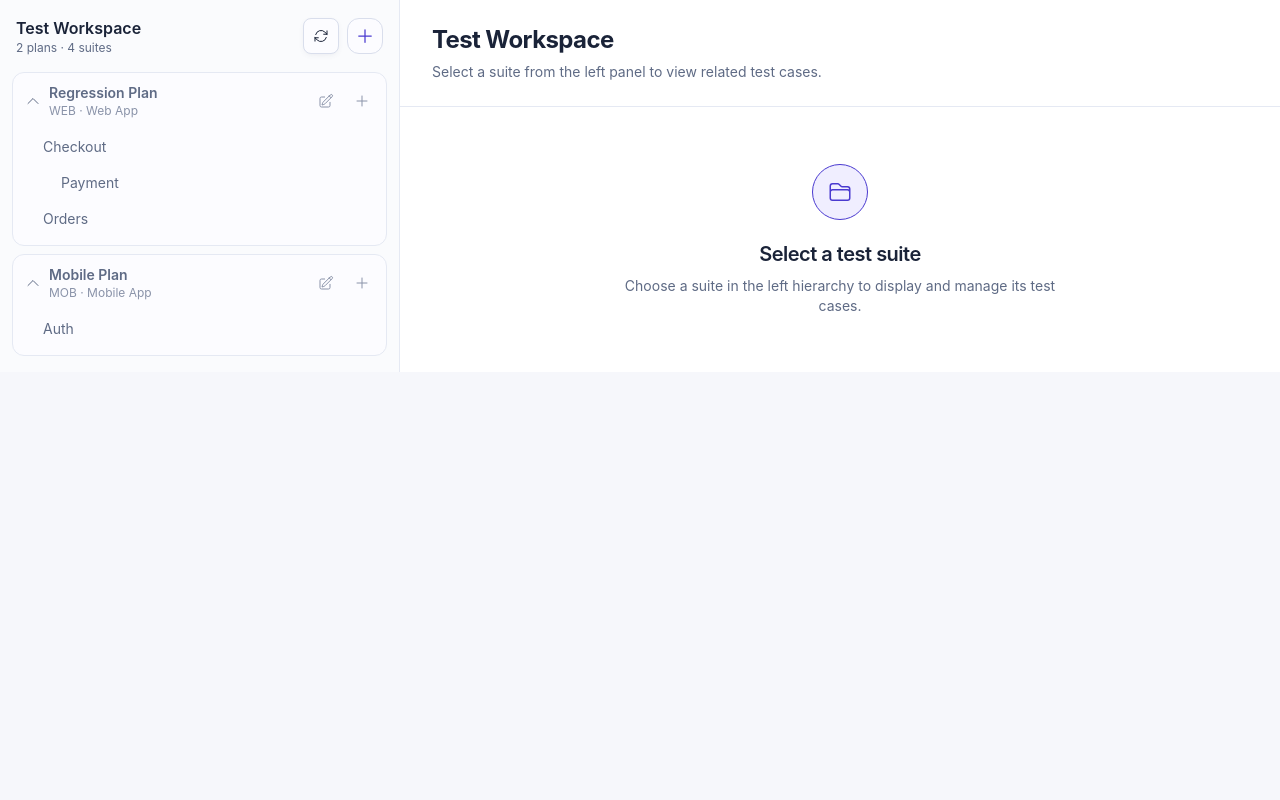
Test: TestManagementWorkspace › opens read-only test case detail when case title is clicked
Click the button "Payment" at (90, 182), box [13,165,386,201]
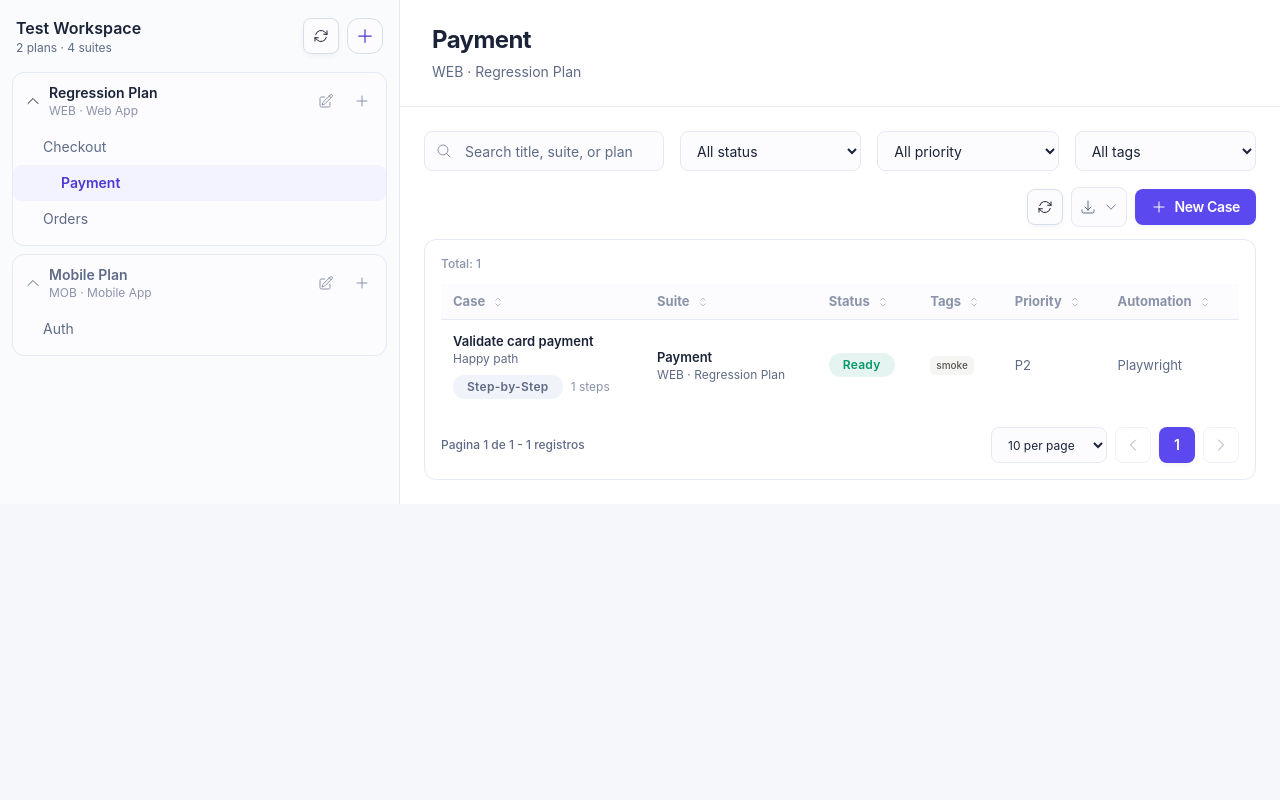
Now the button "Validate card payment" is shown
Click the button "Validate card payment" at (523, 341), box [453,332,594,351]
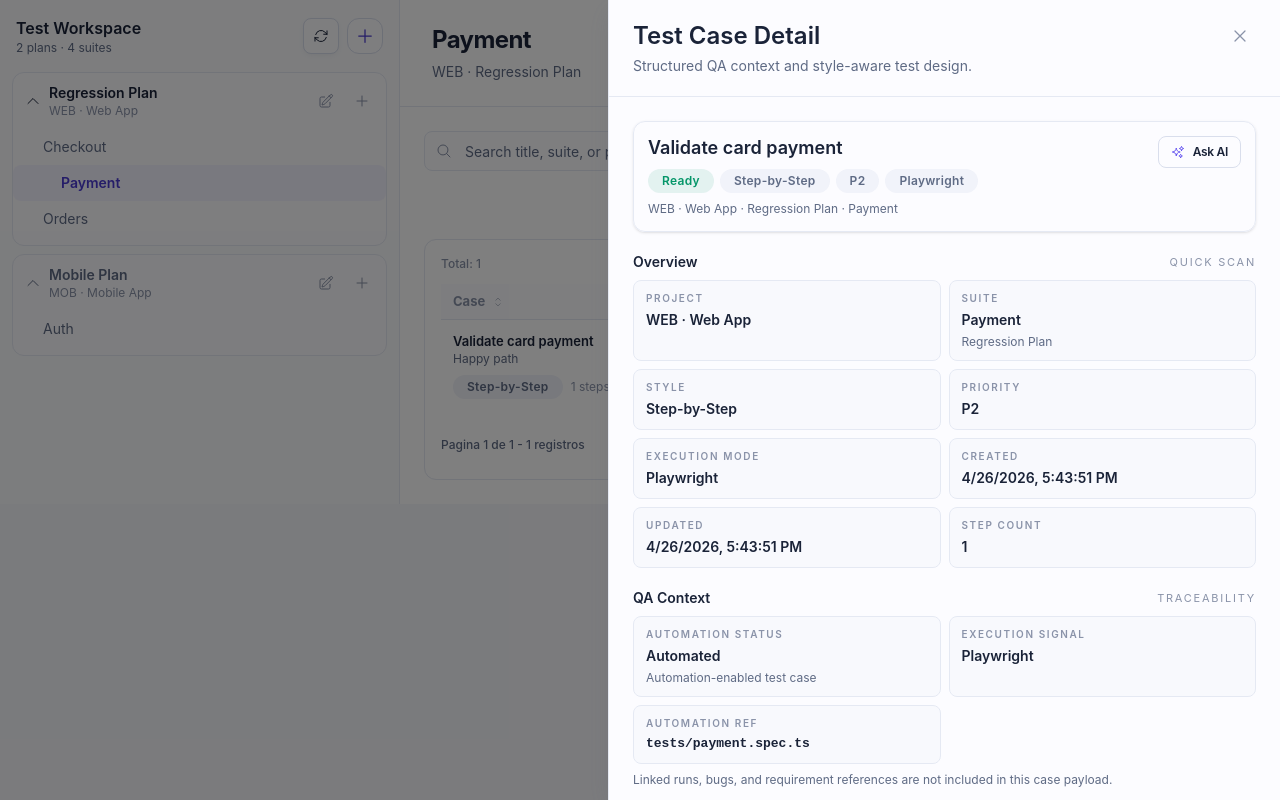
Now the text "Automation Ref" is shown, box [646,717,758,729]
Now the text "tests/payment.spec.ts" is shown, box [646,736,810,751]
Click the button named "Close" at (1240, 36), box [1224,20,1256,52]
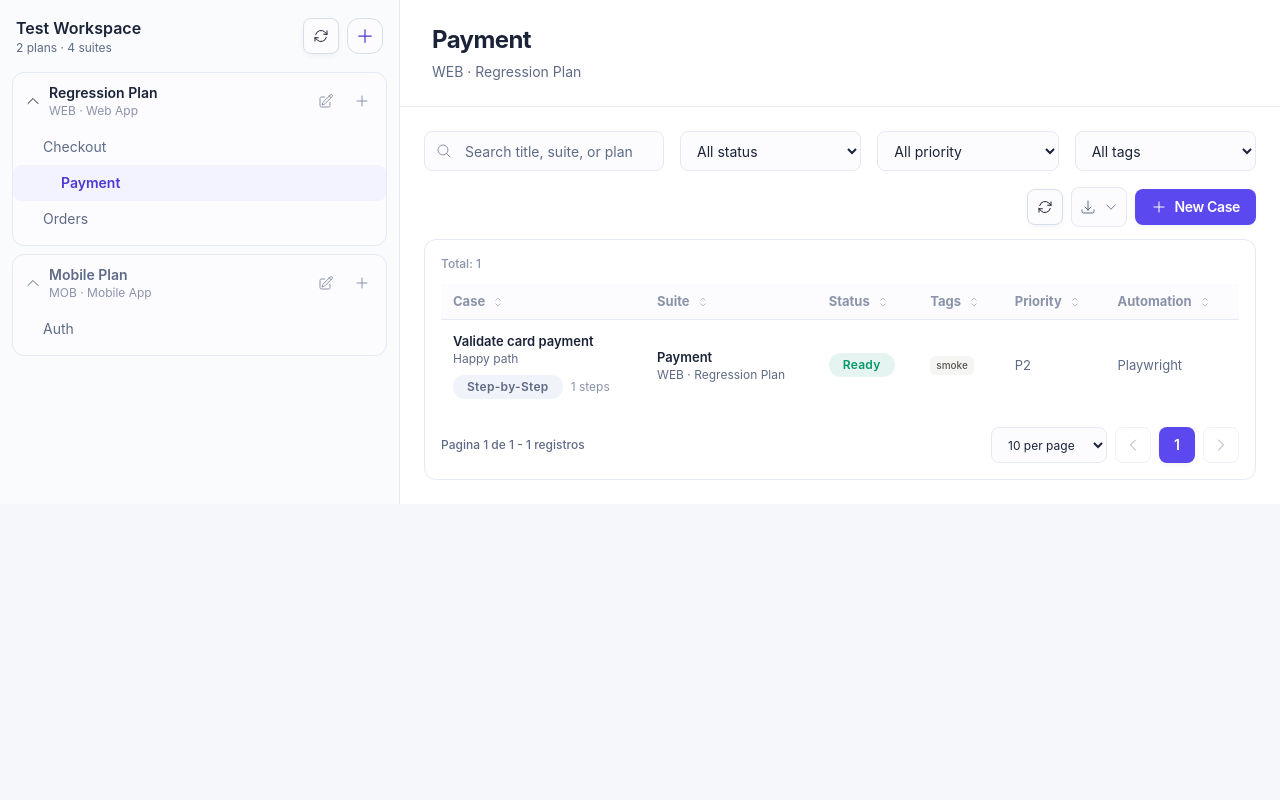
Now the text "Automation Ref" is gone
